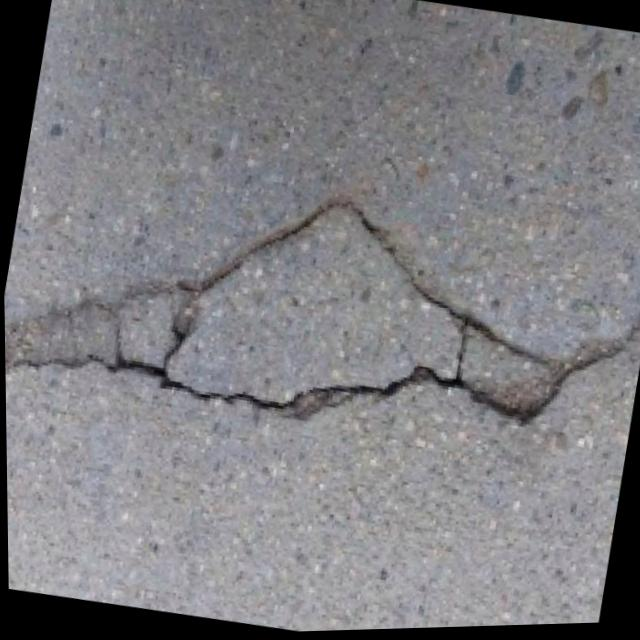Crack: (2, 125, 640, 507)
